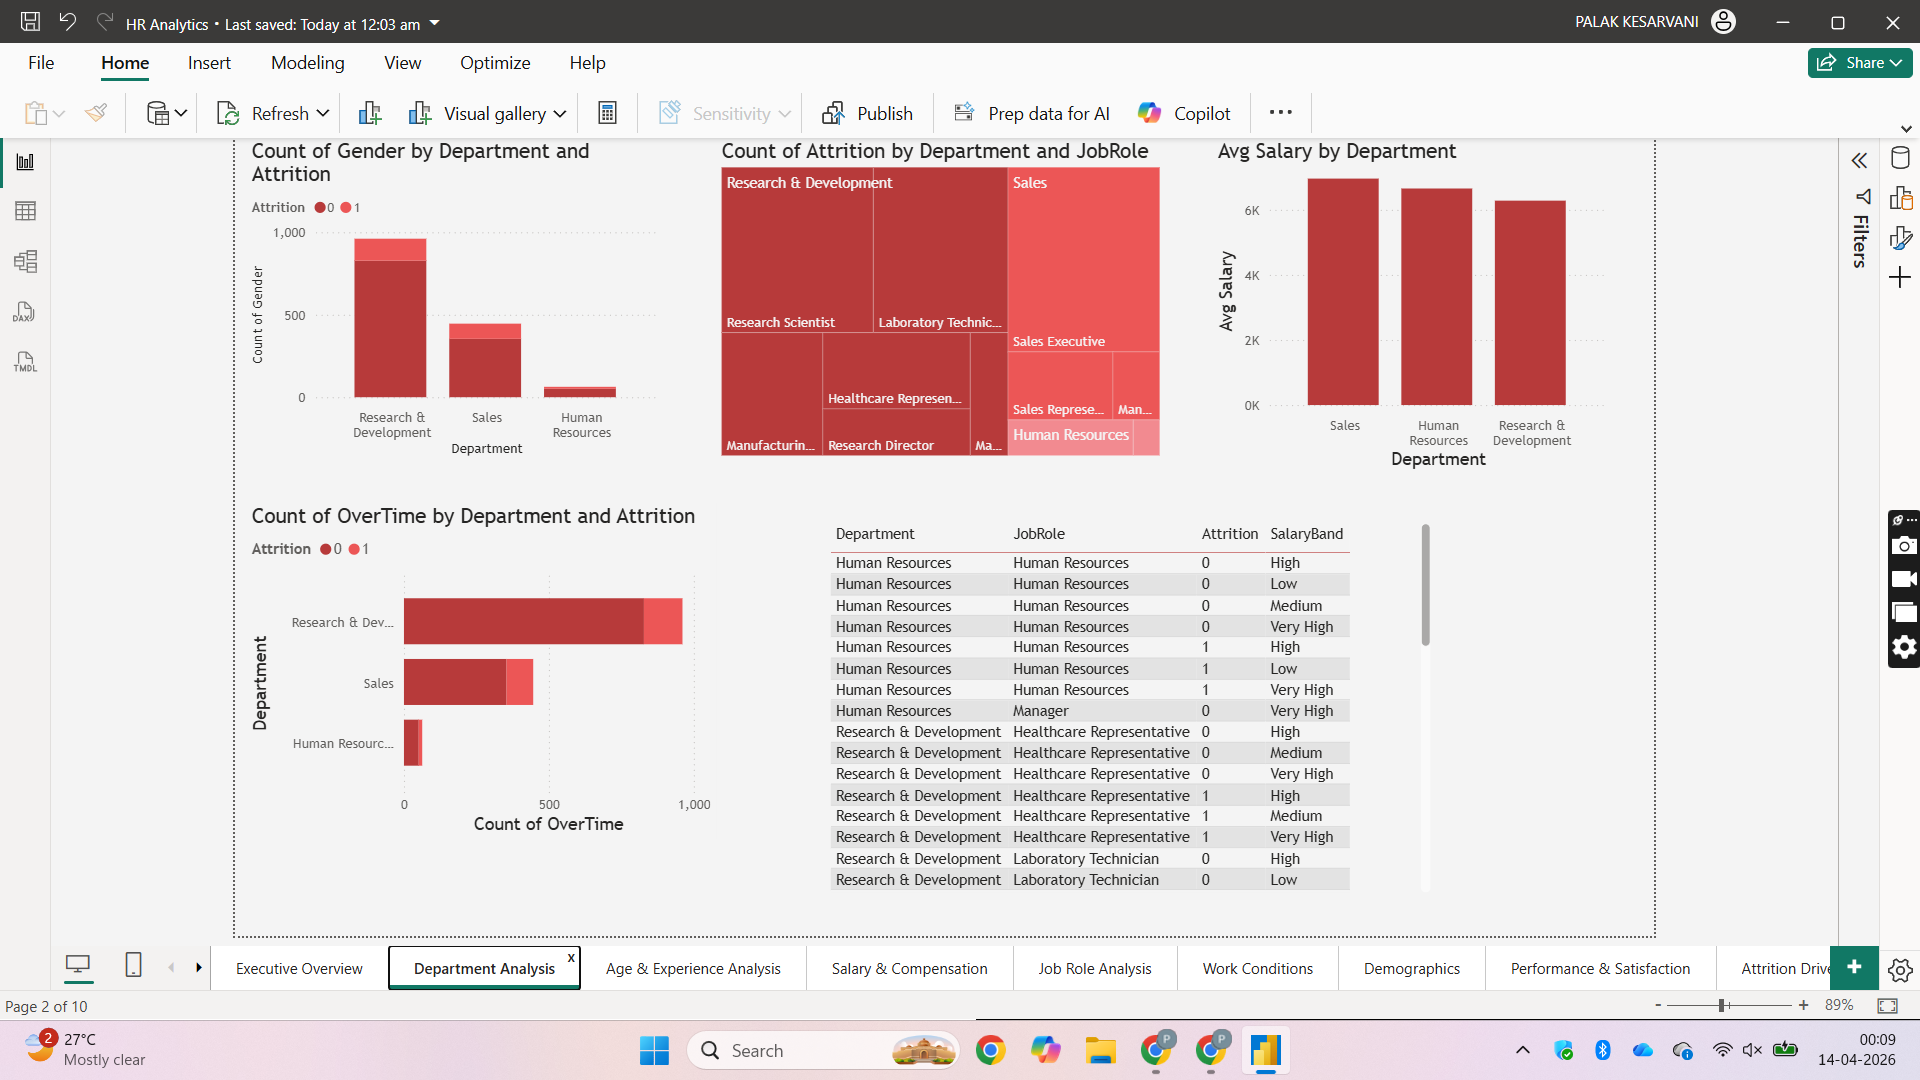

The page's visual inventory and layout, read from the dashboard file:
{"tool":"powerbi","page":{"name":"Department Analysis","canvas":[1280,720],"ordinal":1},"visuals":[{"type":"columnChart","fields":{"Category":["cleaned_data.Department"],"Y":["CountNonNull(cleaned_data.Gender)"],"Series":["cleaned_data.Attrition"]},"box":[10.2,0,376.3,291.5],"z":0},{"type":"treemap","fields":{"Group":["cleaned_data.Department"],"Details":["cleaned_data.JobRole"],"Values":["CountNonNull(cleaned_data.Attrition)"]},"box":[433.9,0,405.1,291.5],"z":1000},{"type":"clusteredColumnChart","fields":{"Category":["cleaned_data.Department"],"Y":["cleaned_data.Avg Salary"]},"box":[881.4,0,361,303.4],"z":2000},{"type":"barChart","fields":{"Category":["cleaned_data.Department"],"Y":["CountNonNull(cleaned_data.OverTime)"],"Series":["cleaned_data.Attrition"]},"box":[10.2,328.8,423.7,303.4],"z":3000},{"type":"tableEx","fields":{"Values":["cleaned_data.Department","cleaned_data.JobRole","cleaned_data.Attrition","cleaned_data.SalaryBand"]},"box":[530.5,342.4,552.5,342.4],"z":4000}]}

Visuals, with their boxes on the page's 1280x720 design canvas (x1, y1, x2, y2). These are canvas units, not pixel positions in the 1920x1080 screenshot, which may show the page scaled, cropped or inside an application window:
columnChart - cleaned_data.Department x CountNonNull(cleaned_data.Gender): pyautogui.locateOnScreen(10, 0, 386, 292)
treemap - cleaned_data.Department x cleaned_data.JobRole: pyautogui.locateOnScreen(434, 0, 839, 292)
clusteredColumnChart - cleaned_data.Department x cleaned_data.Avg Salary: pyautogui.locateOnScreen(881, 0, 1242, 303)
barChart - cleaned_data.Department x CountNonNull(cleaned_data.OverTime): pyautogui.locateOnScreen(10, 329, 434, 632)
tableEx - cleaned_data.Department x cleaned_data.JobRole: pyautogui.locateOnScreen(530, 342, 1083, 685)
